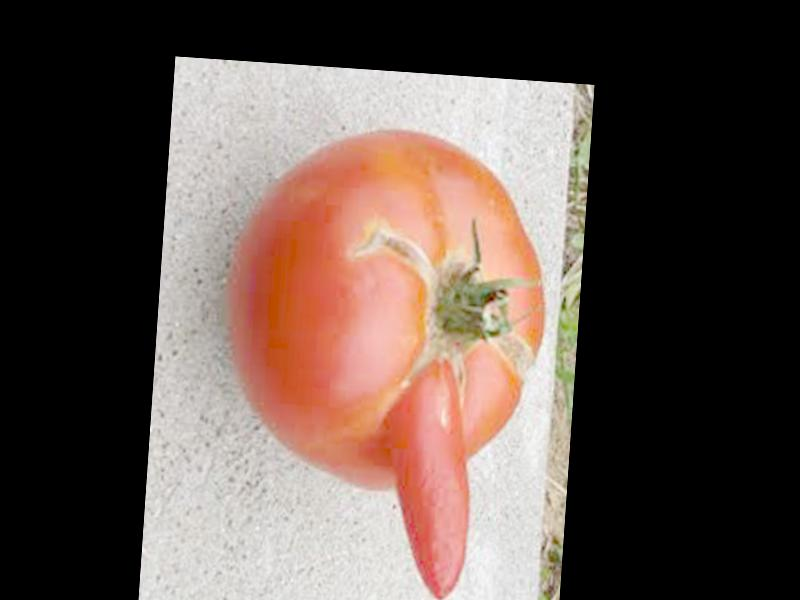Tomato: (225, 116, 558, 501)
